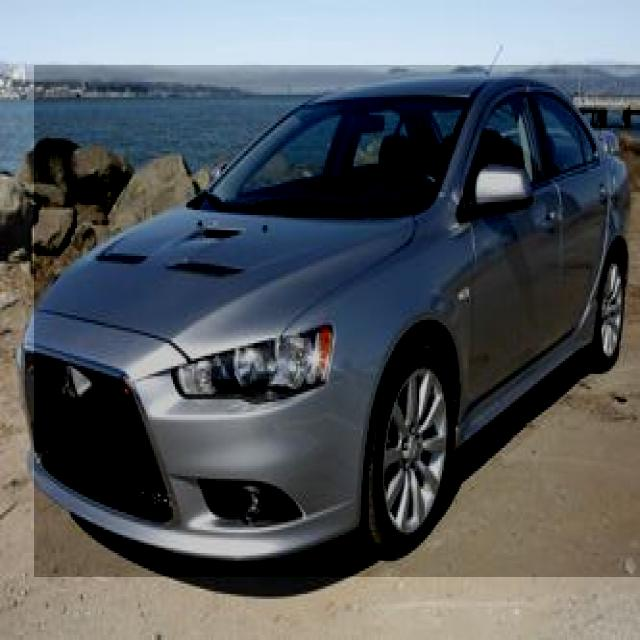Car: (34, 65, 640, 577)
